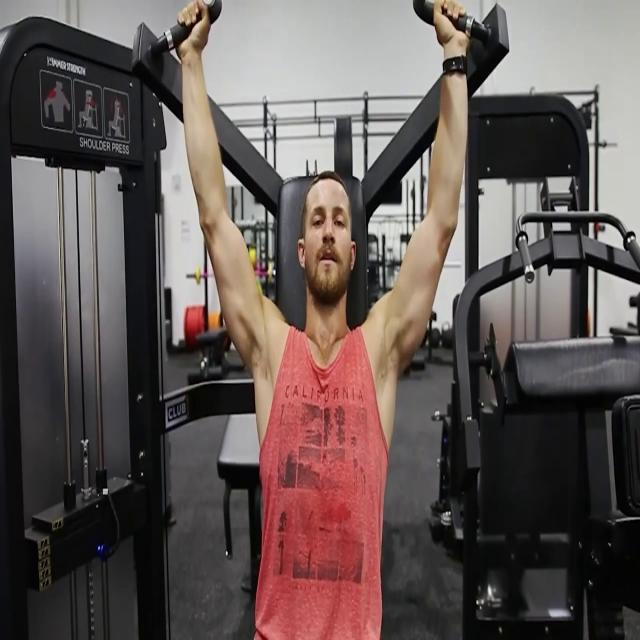Shoulder press: (147, 0, 521, 640)
